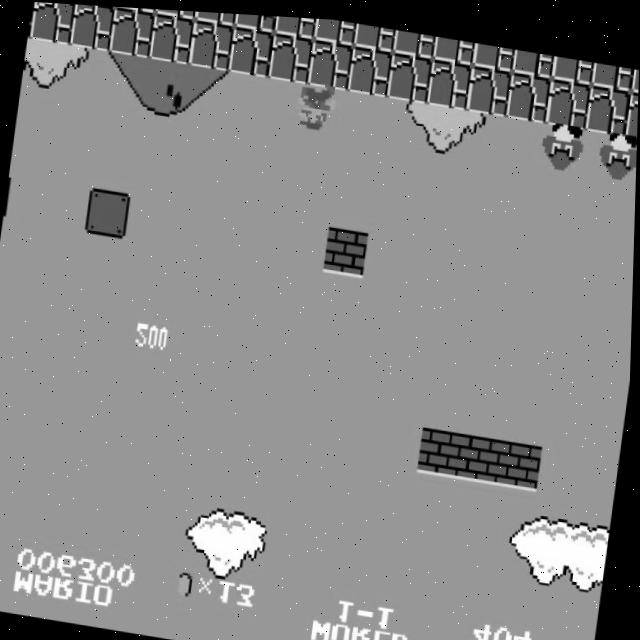1- brick_block: (323, 222, 370, 274), (419, 422, 465, 473), (459, 427, 505, 478), (498, 434, 544, 485)
11- little_mario: (288, 75, 338, 130)
17- undestructible_block: (465, 59, 513, 111), (148, 10, 195, 63), (307, 34, 354, 87), (426, 52, 473, 105), (188, 16, 235, 68), (227, 23, 274, 75), (267, 29, 314, 81), (346, 41, 393, 93), (386, 47, 433, 99), (505, 65, 552, 117), (545, 71, 592, 123), (585, 77, 632, 129), (108, 5, 155, 56), (68, 3, 115, 50), (29, 1, 76, 45), (352, 18, 396, 47), (392, 24, 436, 53), (511, 43, 555, 72), (432, 31, 475, 60), (472, 37, 515, 66), (551, 49, 594, 78), (591, 55, 634, 84), (312, 15, 356, 42), (273, 13, 316, 35), (234, 11, 277, 29), (625, 82, 639, 133), (194, 9, 237, 23), (154, 7, 197, 17), (27, 1, 35, 39), (631, 60, 639, 88)
3- empty_block: (85, 186, 132, 238), (4, 173, 12, 220)
8- goomba: (537, 113, 586, 168), (594, 122, 638, 177)
